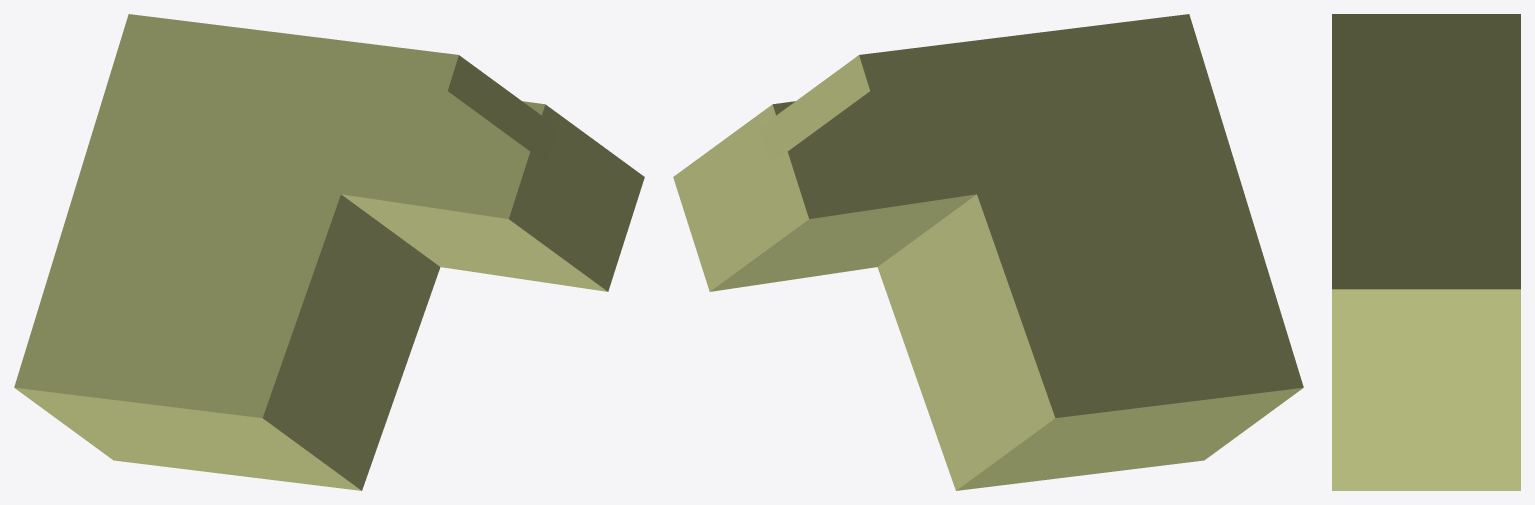
The picture shows the model from 3 angles, left to right: view 1: azimuth 30°, elevation 25°; view 2: azimuth 150°, elevation 25°; view 3: azimuth 270°, elevation 25°; orthographic projection. The views are drawn at different scales.
Parts seen in each view (by area): view 1: 0_3_1_3_3_3_2_2_3; view 2: 0_3_1_3_3_3_2_2_3; view 3: 0_3_1_3_3_3_2_2_3.
Boxes of the visible parts, <box> form: 0_3_1_3_3_3_2_2_3: <box>14,14,644,490</box>; 0_3_1_3_3_3_2_2_3: <box>673,14,1303,490</box>; 0_3_1_3_3_3_2_2_3: <box>1332,14,1520,490</box>.
Size of the model in its own units: 18.51 by 14.54 by 6.
